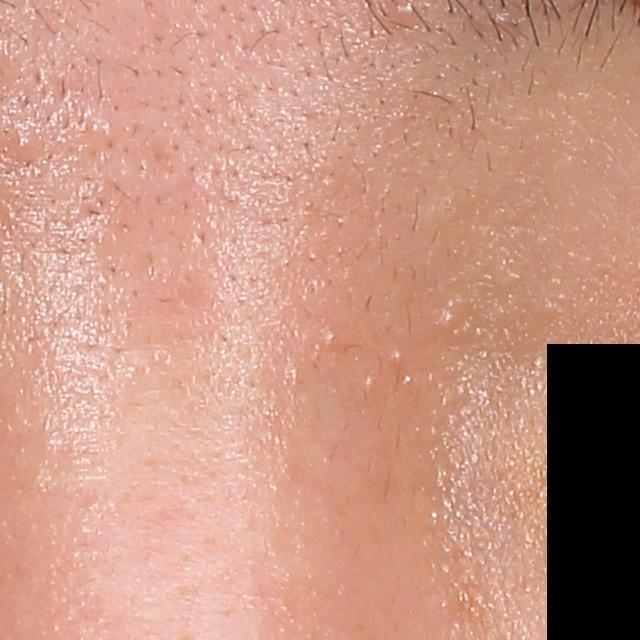comedo: (384, 0, 422, 27), (4, 128, 34, 160), (321, 326, 340, 349)
